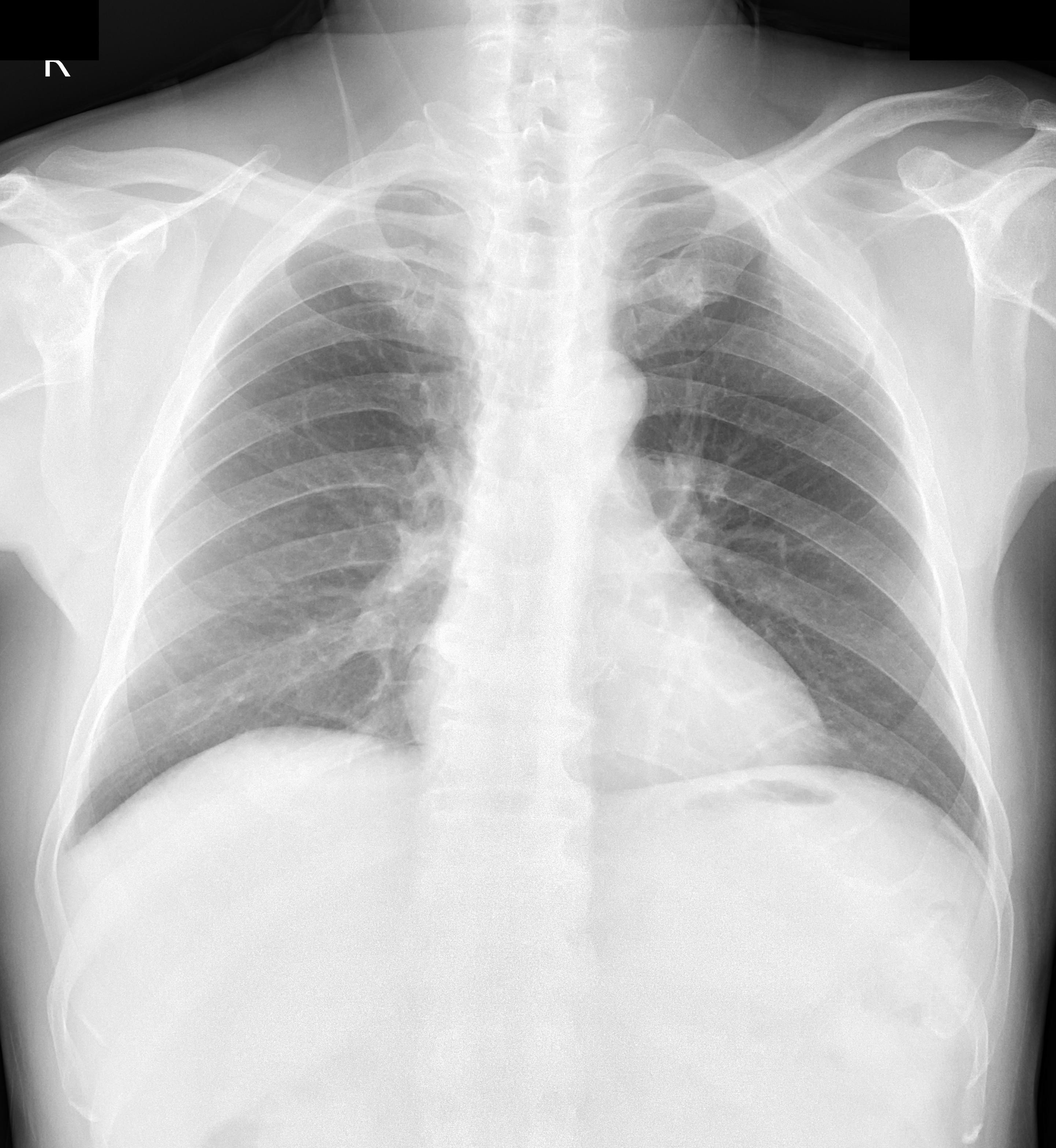Pleural thickening: (395, 168, 461, 184), (639, 164, 697, 175)
